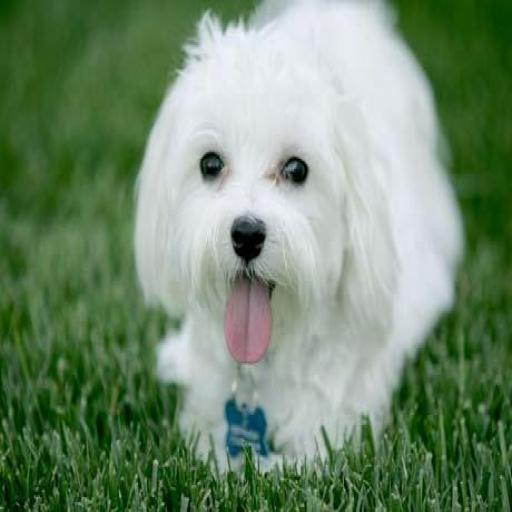dog_face: (144, 40, 377, 373)
